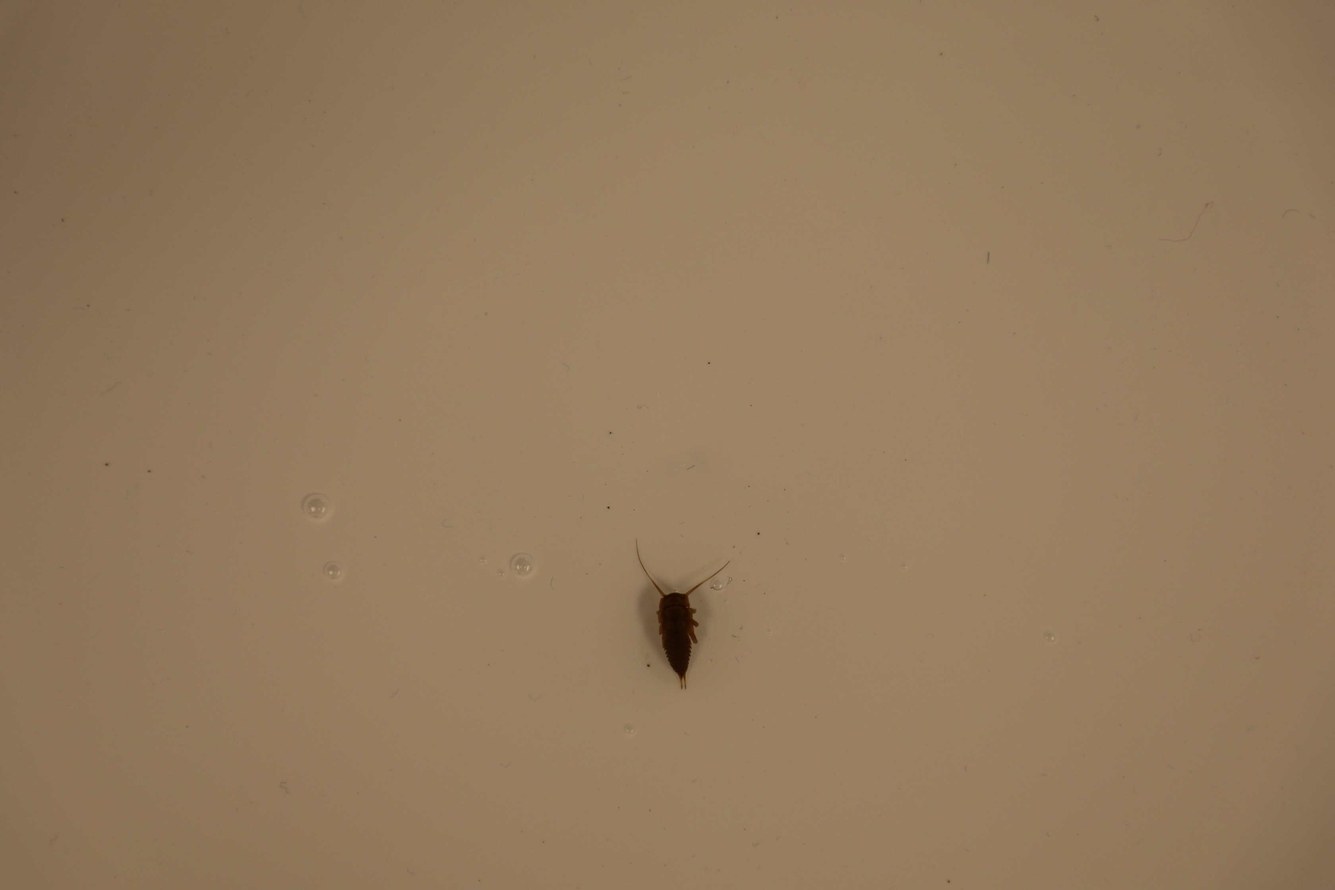Stonefly: (634, 542, 733, 692)
